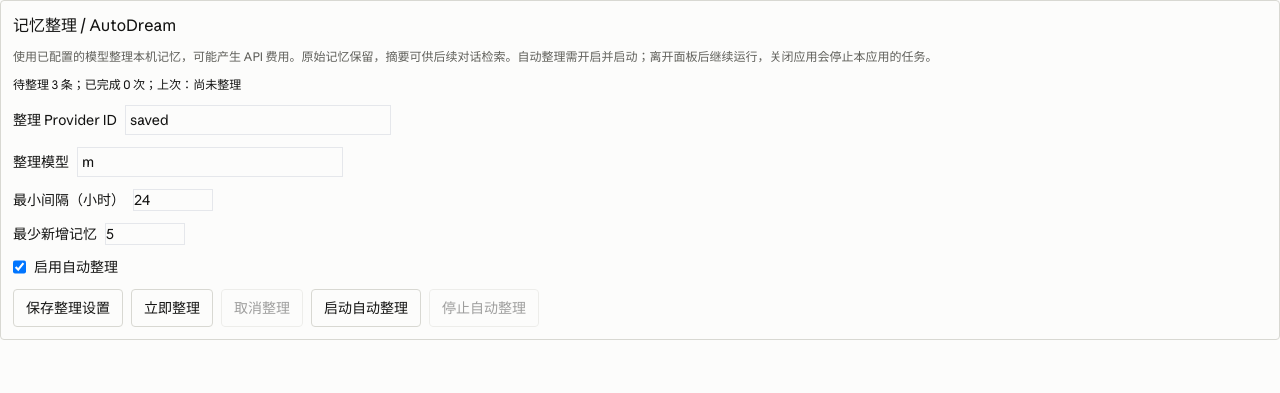
Scenario: requires saving edited model configuration before starting and exposes backend failures
Step 1. Replace the text in the field labelled "整理模型" with "other" → (210, 162), box [77,147,343,177]
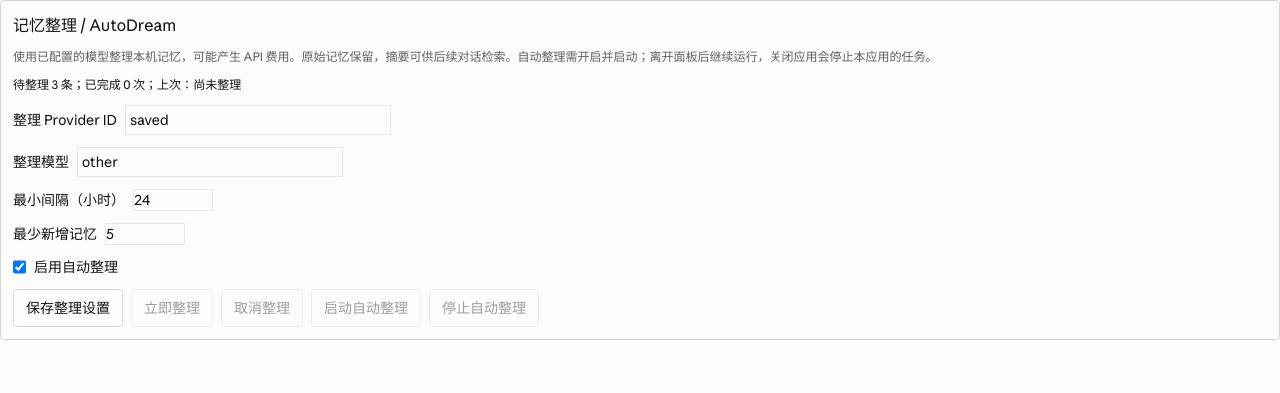
Now the button "立即整理" is disabled, box [131,289,213,327]
Step 2. Click the button "保存整理设置" → click(68, 308), box [13,289,123,327]
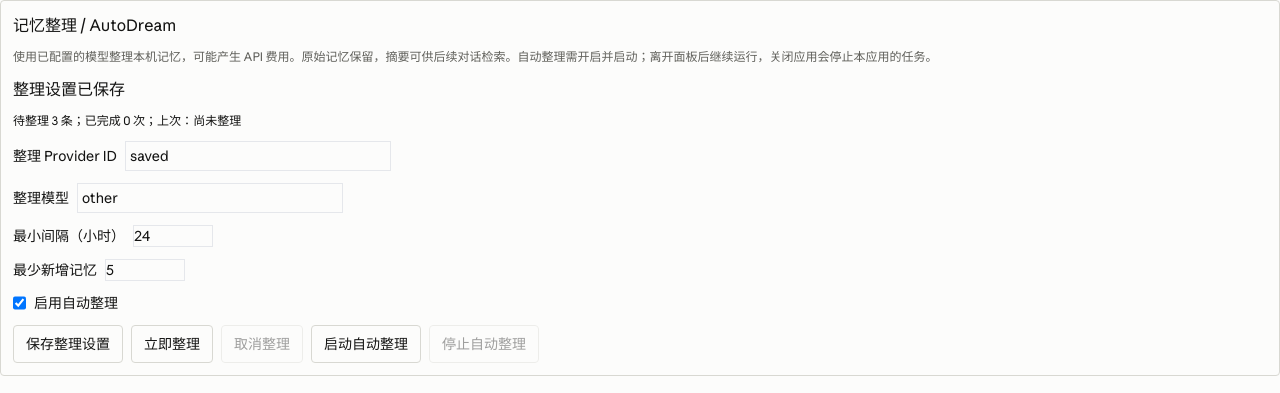
Now the button "立即整理" is enabled
Step 3. Click the button "立即整理" → click(172, 344), box [131,325,213,363]
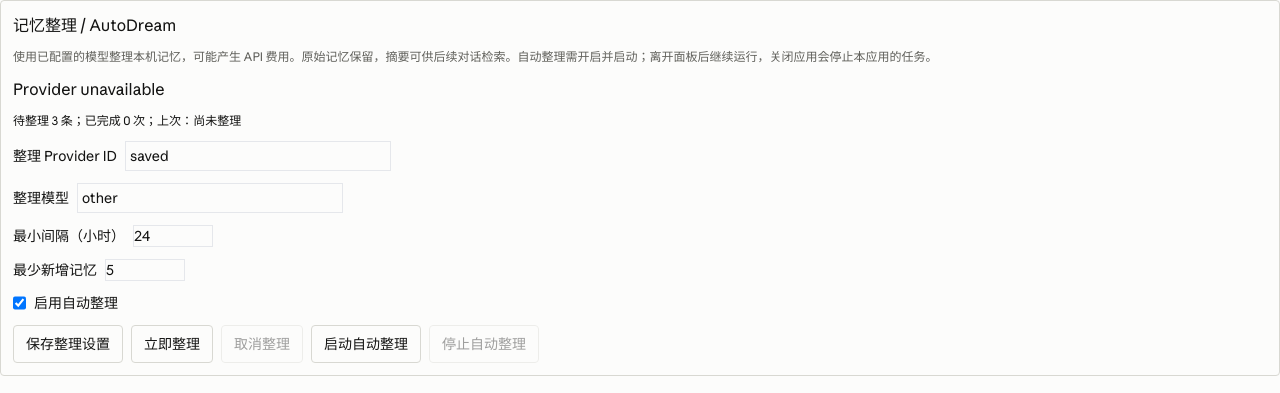
Now the message reads "Provider unavailable", box [13,79,165,99]
